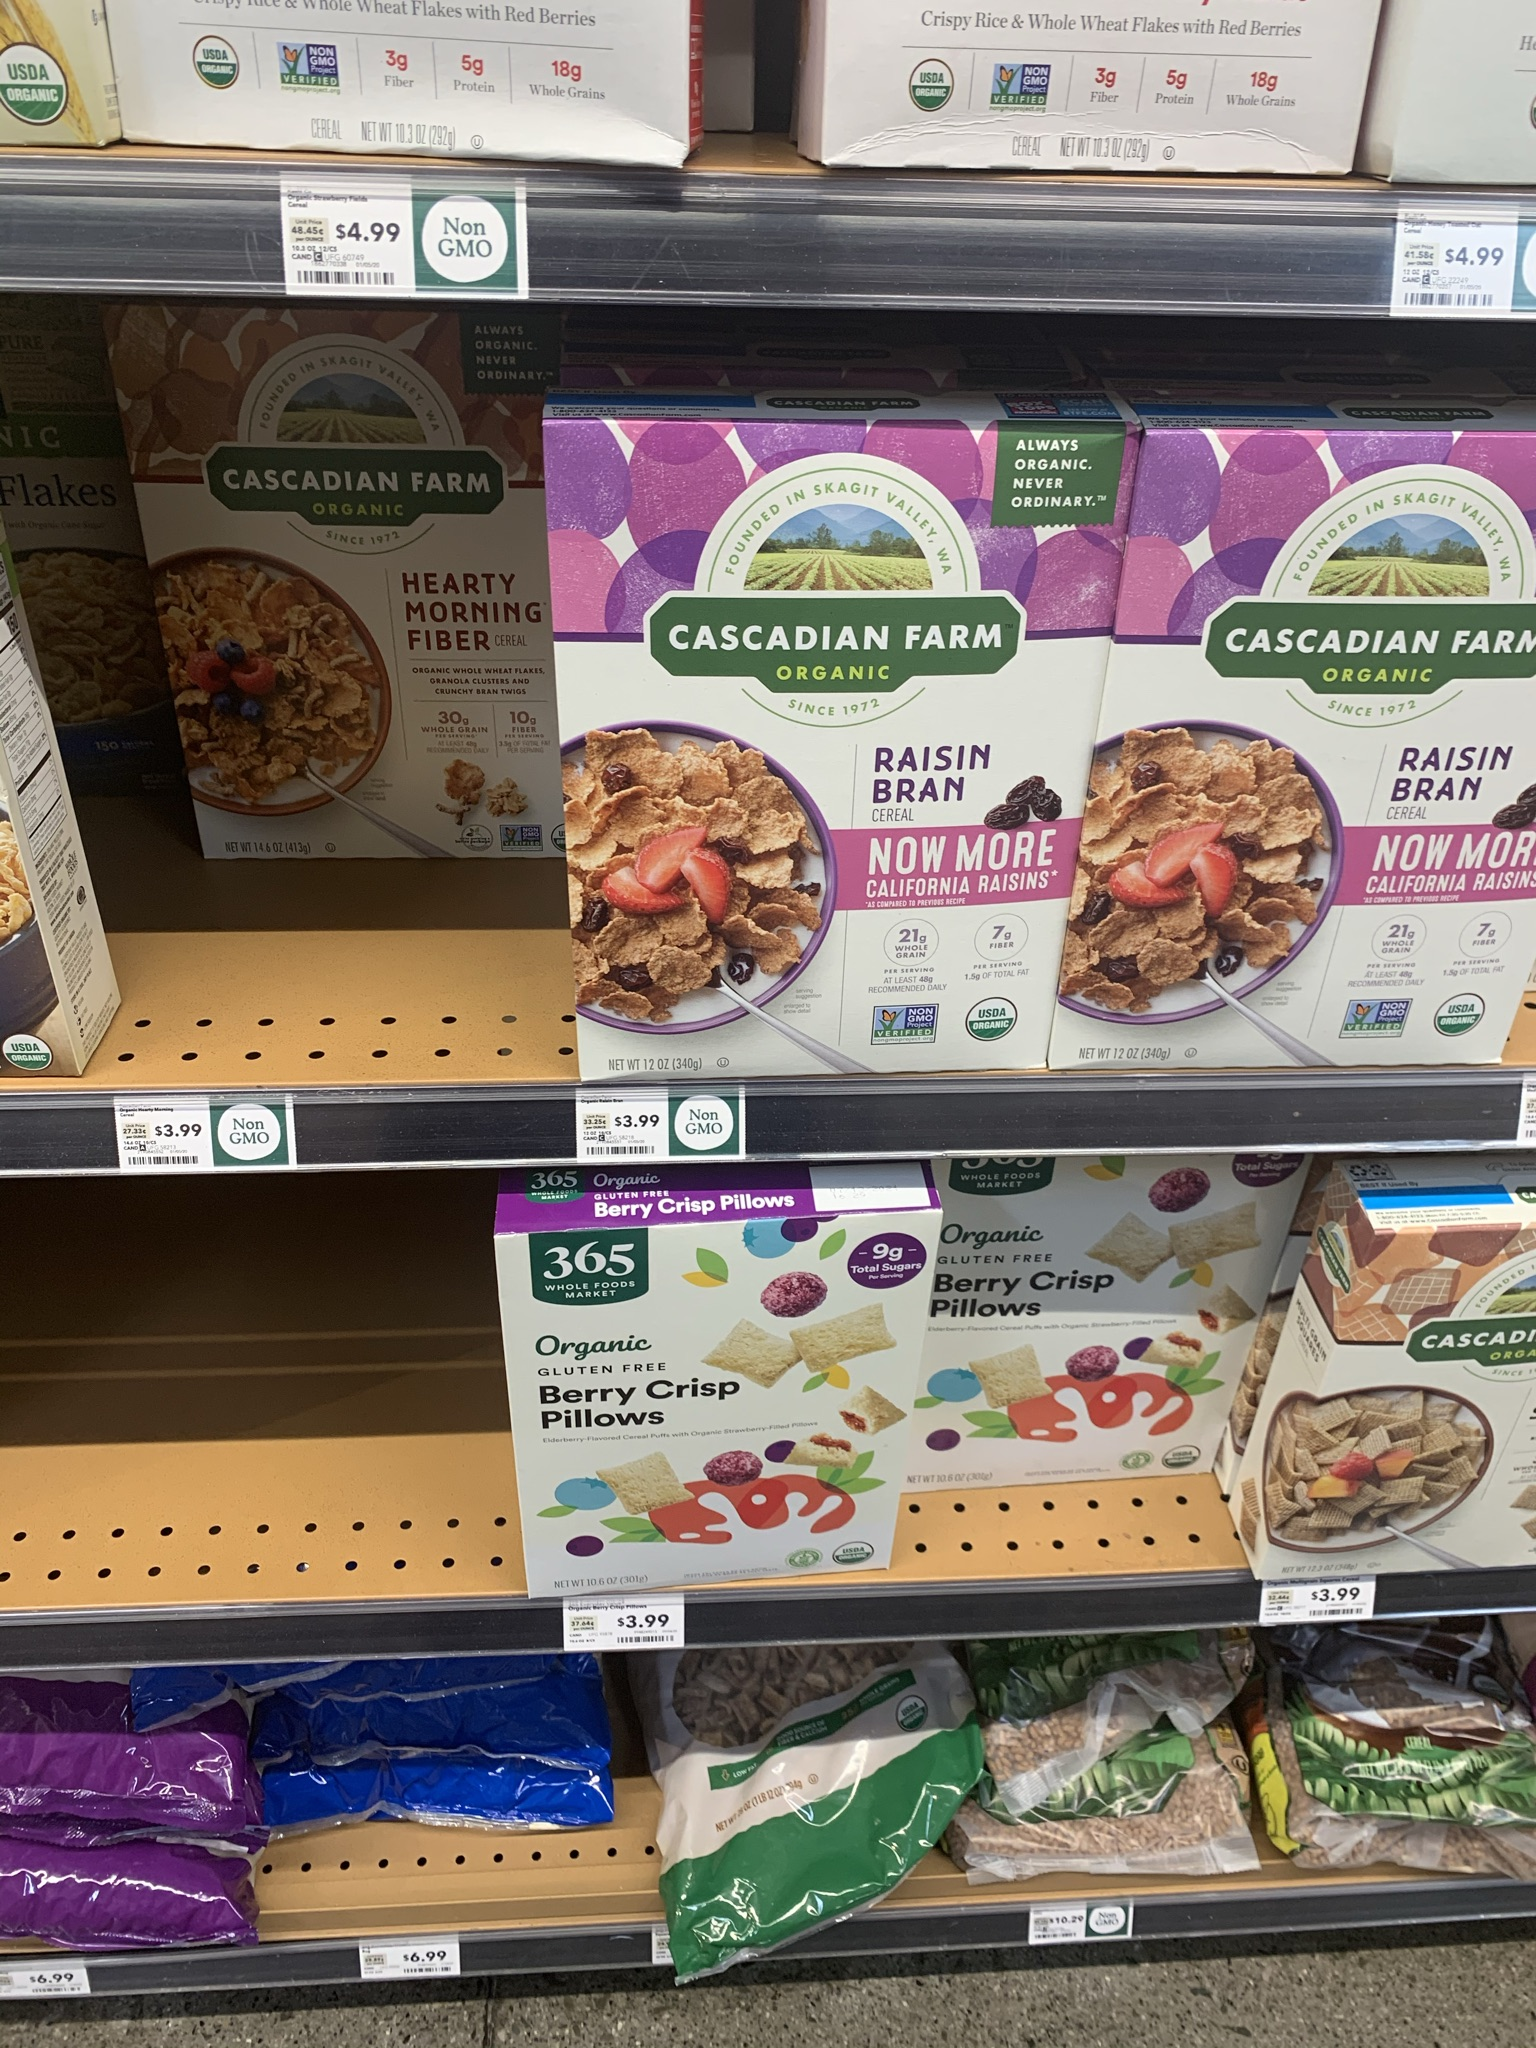Cereal cascadian: (547, 426, 1054, 1069), (1147, 434, 1536, 1061)
Cereal organic: (508, 1230, 944, 1587), (957, 1171, 1257, 1476)
